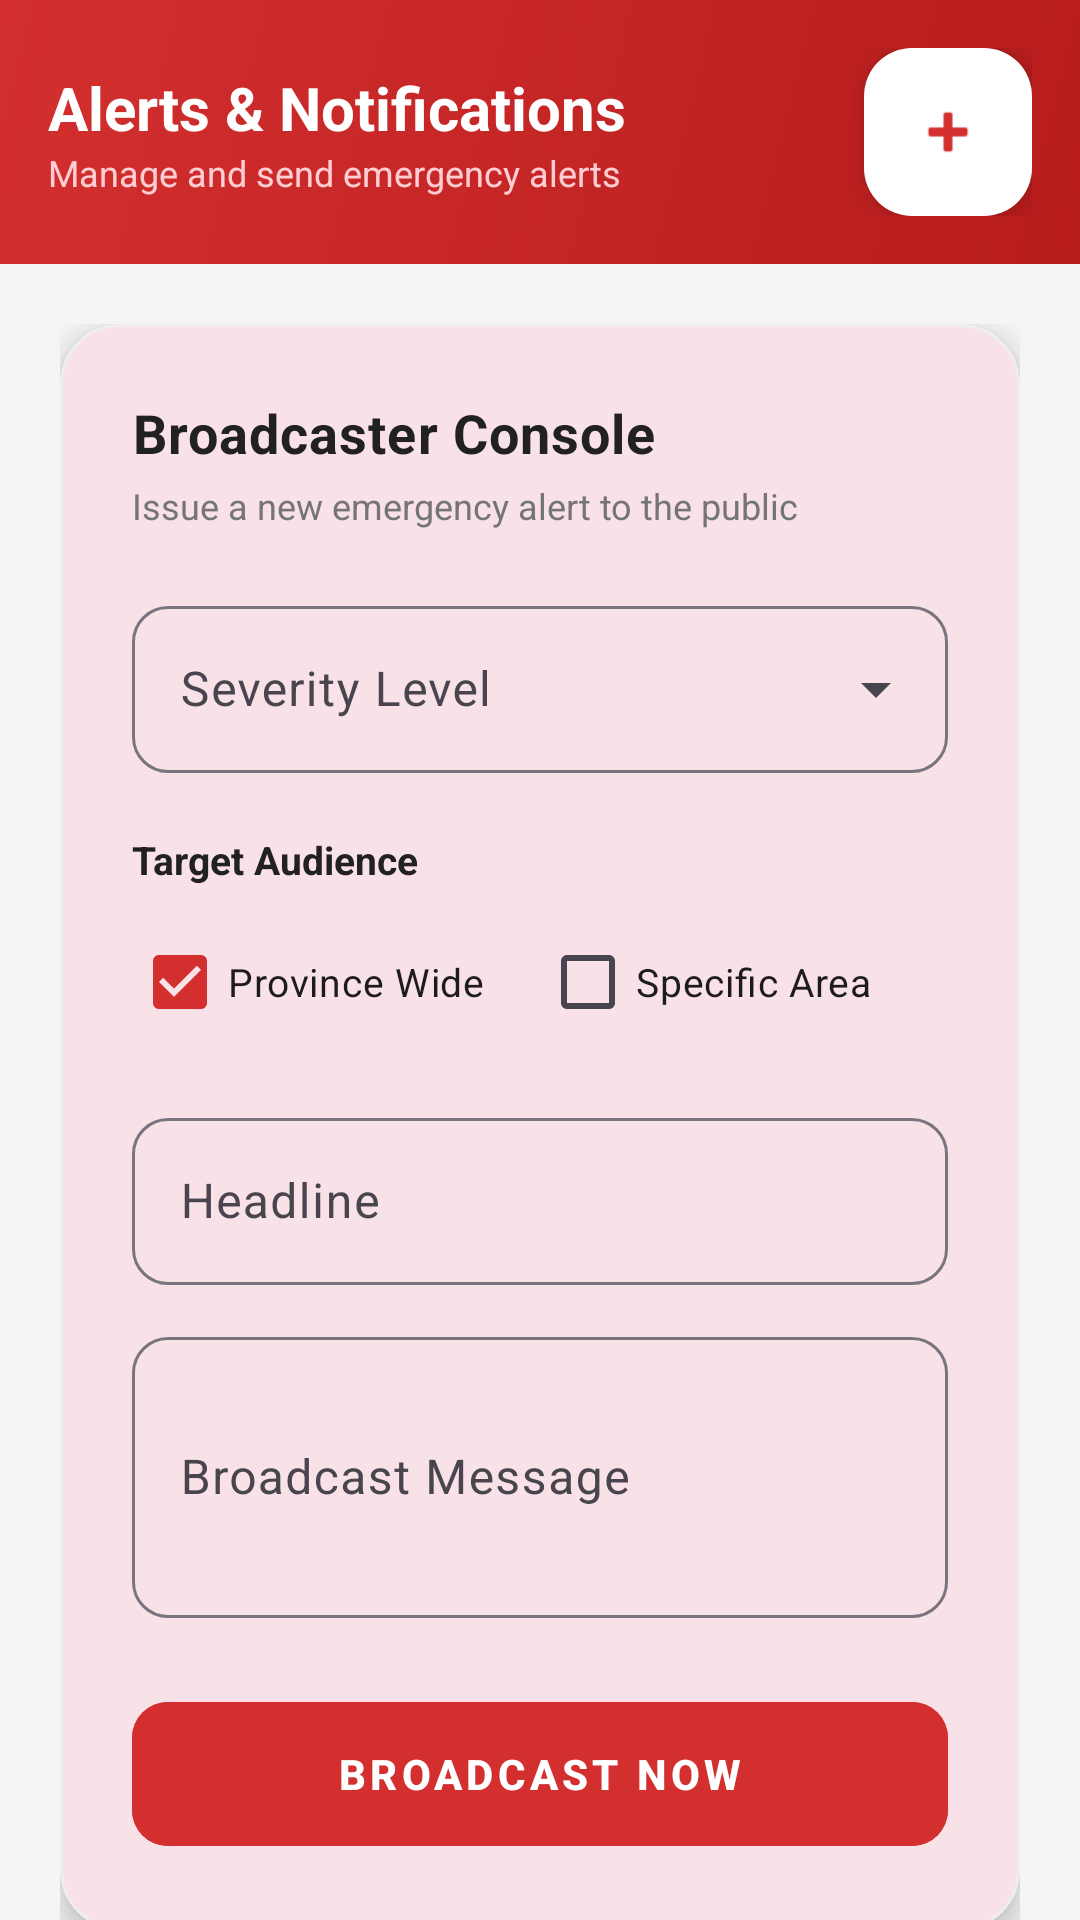

Icon bounding boxes for this 1080 × 1920 phone screenshot, format (x1, y1, x2, y2):
New Alert: (864, 48, 1032, 216)
